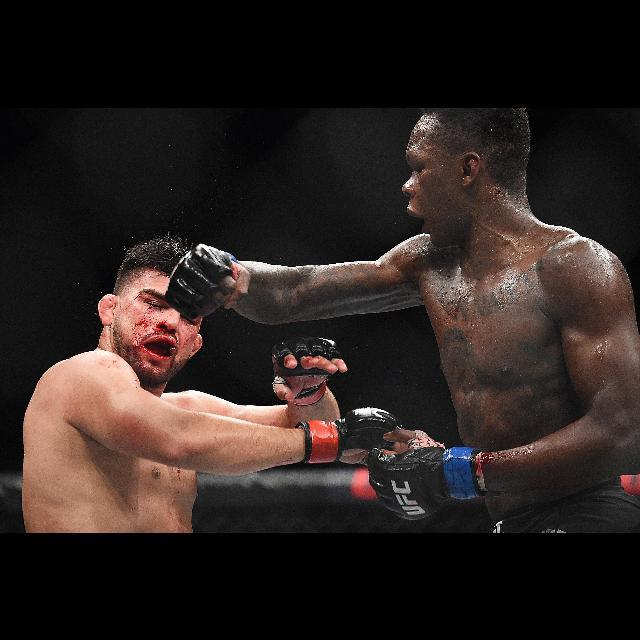blood: (111, 291, 187, 389), (476, 452, 501, 475)
